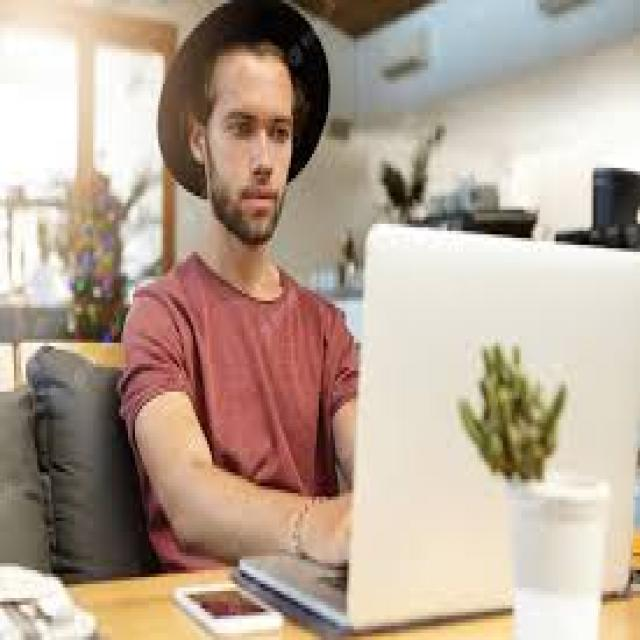hat: (163, 0, 337, 197)
